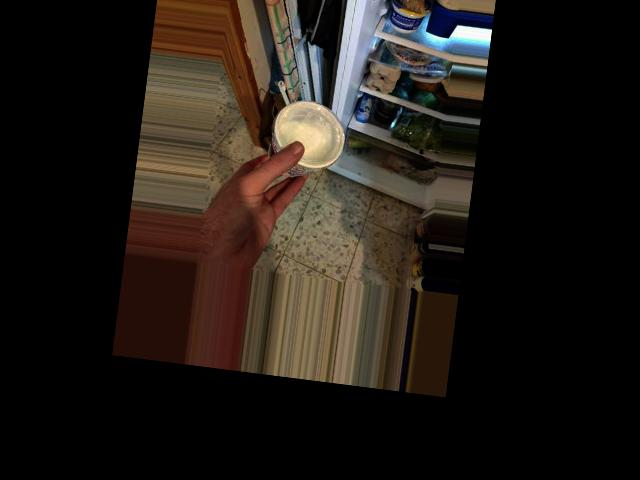cotage: (265, 91, 342, 184)
